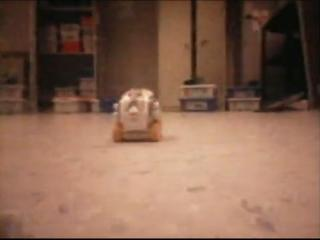cozmo: (111, 87, 162, 143)
